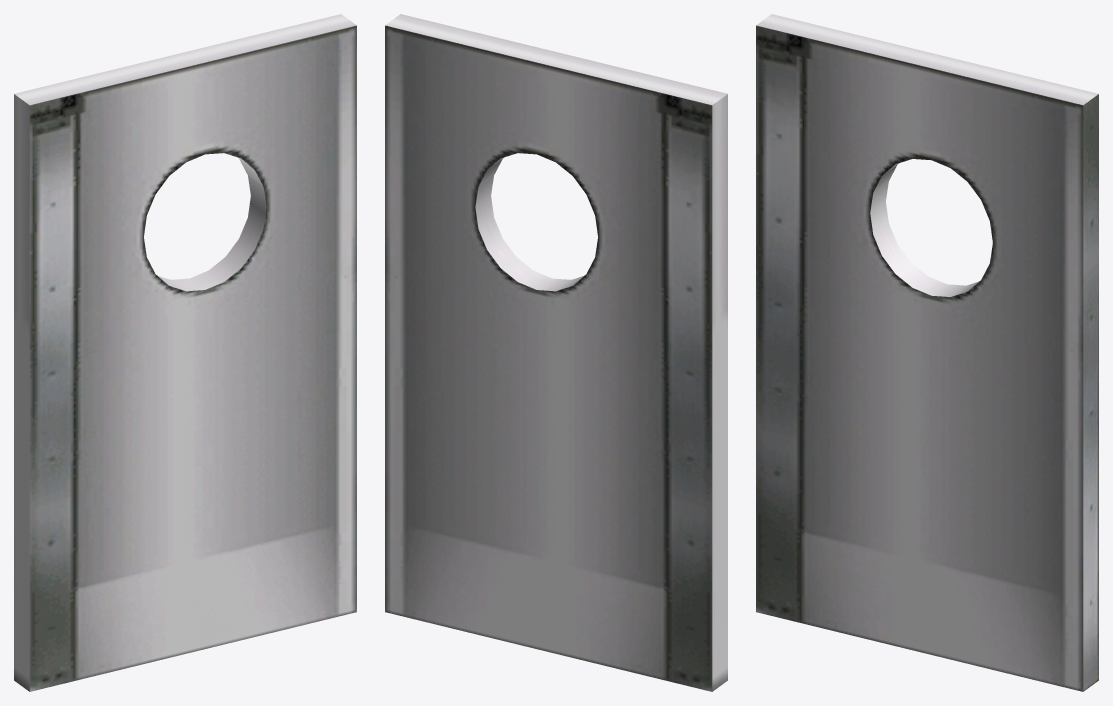
File: puertacocina1.obj
3 views of the same model, side by side, from view 1: azimuth 30°, elevation 25°; view 2: azimuth 150°, elevation 25°; view 3: azimuth 330°, elevation 25° (orthographic).
Parts seen in each view (by area): view 1: pasted__polySurface45 group; view 2: pasted__polySurface45 group; view 3: pasted__polySurface45 group.
Part boxes in pixels (<box>): pasted__polySurface45 group: <box>14,14,356,691</box>; pasted__polySurface45 group: <box>385,14,727,691</box>; pasted__polySurface45 group: <box>756,14,1098,691</box>.
Size of the model in its own units: 1.65 by 2.82 by 0.1365.
1 material, 1 textured.
